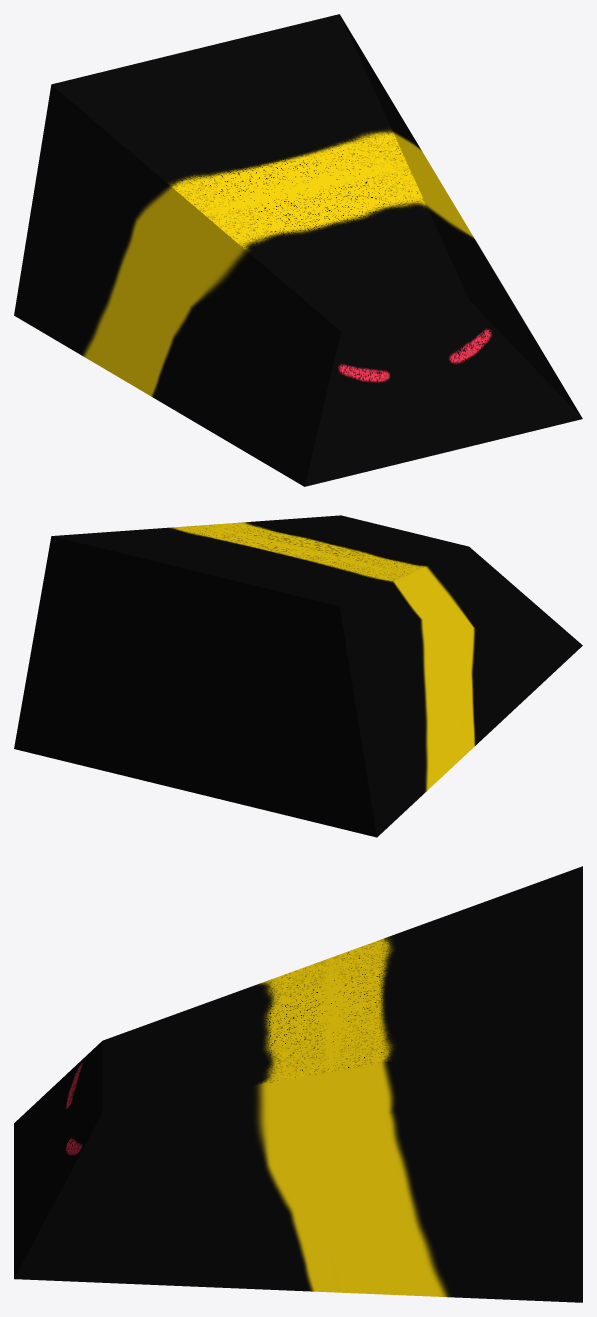
File: crab.fbx
The picture shows the model from 3 angles, top to bottom: view 1: azimuth 30°, elevation 25°; view 2: azimuth 150°, elevation 25°; view 3: azimuth 270°, elevation 25°; orthographic projection. The views are drawn at different scales.
Visible parts, largest first — view 1: Cube; view 2: Cube; view 3: Cube.
Part boxes in pixels (box(x1,y1,x2,y2)): Cube: box(14, 14, 582, 486); Cube: box(14, 515, 582, 837); Cube: box(14, 866, 582, 1302).
Size of the model in its own units: 200 by 117 by 237.
1 material, 1 textured.
